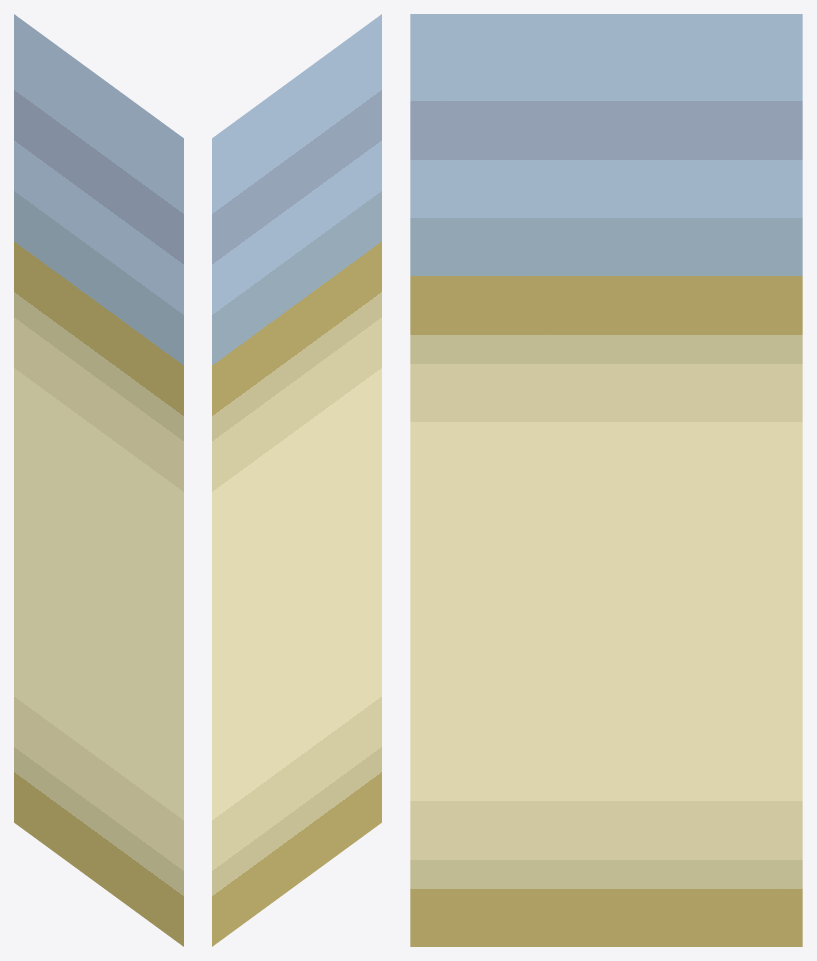
The picture shows the model from 3 angles, left to right: view 1: azimuth 30°, elevation 25°; view 2: azimuth 150°, elevation 25°; view 3: azimuth 270°, elevation 25°; orthographic projection. The views are drawn at different scales.
Bounding box in the file's own units: 0 × 2.5 × 0.9521.
Materials: 1 (1 with a texture image).
